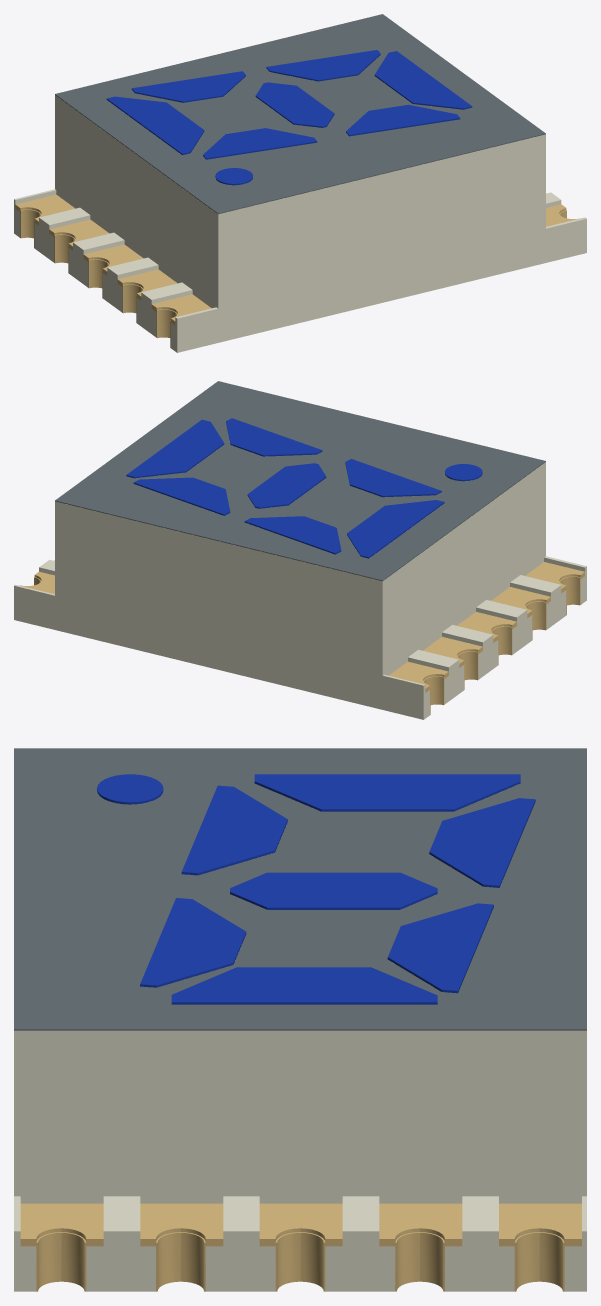
The model's file is kc-kcsc02-136.glb.
The picture shows the model from 3 angles, top to bottom: view 1: azimuth 30°, elevation 25°; view 2: azimuth 150°, elevation 25°; view 3: azimuth 270°, elevation 25°; orthographic projection. The views are drawn at different scales.
Parts seen in each view (by area): view 1: 0.75_0.75_0.6666666666666666_0, 0.16666666666666666_0.16666666666666666_0.16666666666666666_, 0_0.08333333333333333_0.4166666666666667_0, 0.75_0.5_0.25_0.9; view 2: 0.75_0.75_0.6666666666666666_0, 0.16666666666666666_0.16666666666666666_0.16666666666666666_, 0_0.08333333333333333_0.4166666666666667_0, 0.75_0.5_0.25_0.9; view 3: 0.75_0.75_0.6666666666666666_0, 0.16666666666666666_0.16666666666666666_0.16666666666666666_, 0_0.08333333333333333_0.4166666666666667_0, 0.75_0.5_0.25_0.9.
Boxes of the visible parts, x1,y1,x2,y2 form: 0.75_0.75_0.6666666666666666_0: (14,95,586,352); 0.16666666666666666_0.16666666666666666_0.16666666666666666_: (55,14,545,214); 0_0.08333333333333333_0.4166666666666667_0: (106,50,472,185); 0.75_0.5_0.25_0.9: (15,194,578,347); 0.75_0.75_0.6666666666666666_0: (14,462,586,719); 0.16666666666666666_0.16666666666666666_0.16666666666666666_: (55,381,545,581); 0_0.08333333333333333_0.4166666666666667_0: (126,418,482,558); 0.75_0.5_0.25_0.9: (20,560,584,714); 0.75_0.75_0.6666666666666666_0: (14,1030,586,1291); 0.16666666666666666_0.16666666666666666_0.16666666666666666_: (14,748,586,1030); 0_0.08333333333333333_0.4166666666666667_0: (97,774,535,1004); 0.75_0.5_0.25_0.9: (20,1203,581,1291).
Size of the model in its own units: 1 by 0.305 by 0.69.
